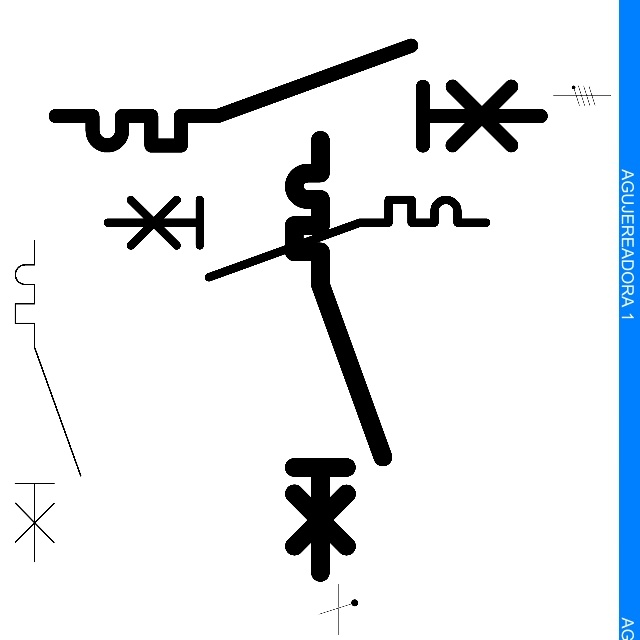interruptor_termomagnetico: (43, 33, 553, 158), (283, 129, 394, 584), (98, 190, 496, 287), (7, 232, 89, 570)
